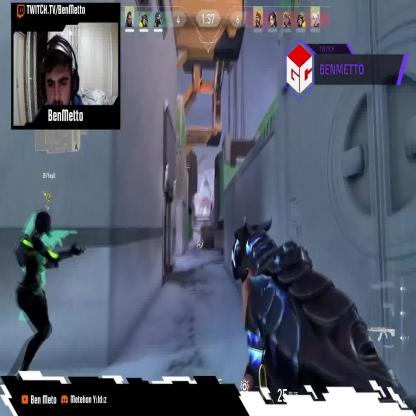enemy: (210, 201, 213, 212)
enemy_head: (211, 201, 213, 204)
